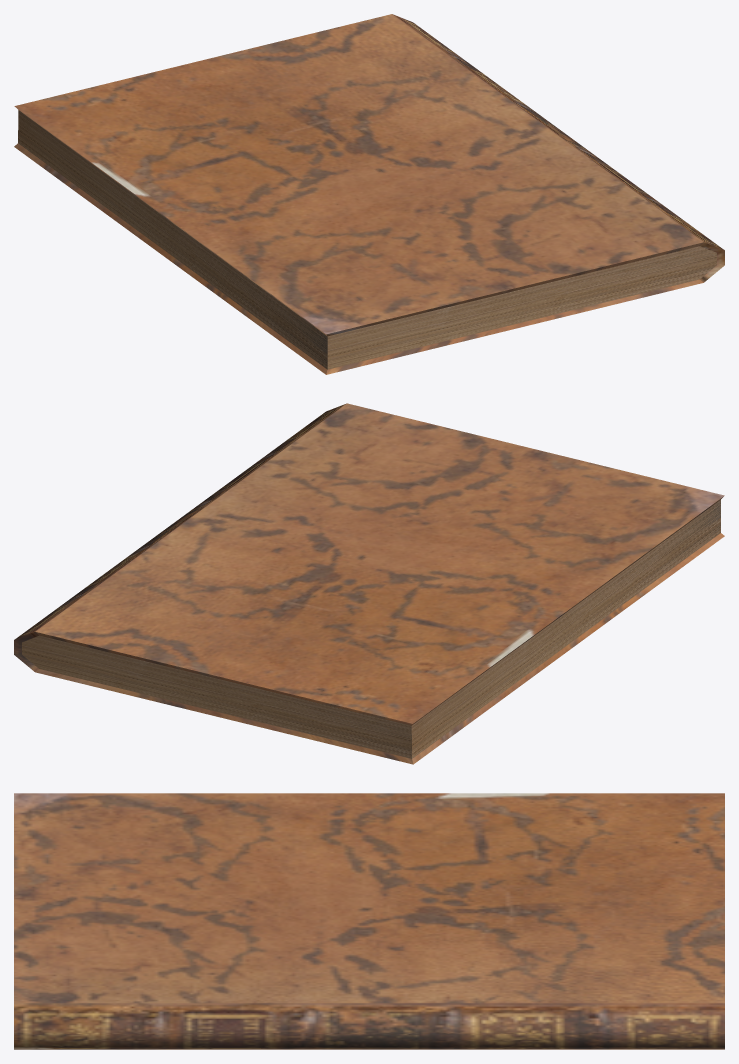
Rendered from book14.obj.
The picture shows the model from 3 angles, top to bottom: view 1: azimuth 30°, elevation 25°; view 2: azimuth 150°, elevation 25°; view 3: azimuth 270°, elevation 25°; orthographic projection. The views are drawn at different scales.
Visible parts, largest first — view 1: mesh; view 2: mesh; view 3: mesh.
Part boxes in pixels (left/top/right/bottom): mesh: left=14, top=14, right=724, bottom=374; mesh: left=14, top=403, right=724, bottom=764; mesh: left=14, top=793, right=724, bottom=1049.
Bounding box in the file's own units: 14.22 × 1.38 × 19.24.
